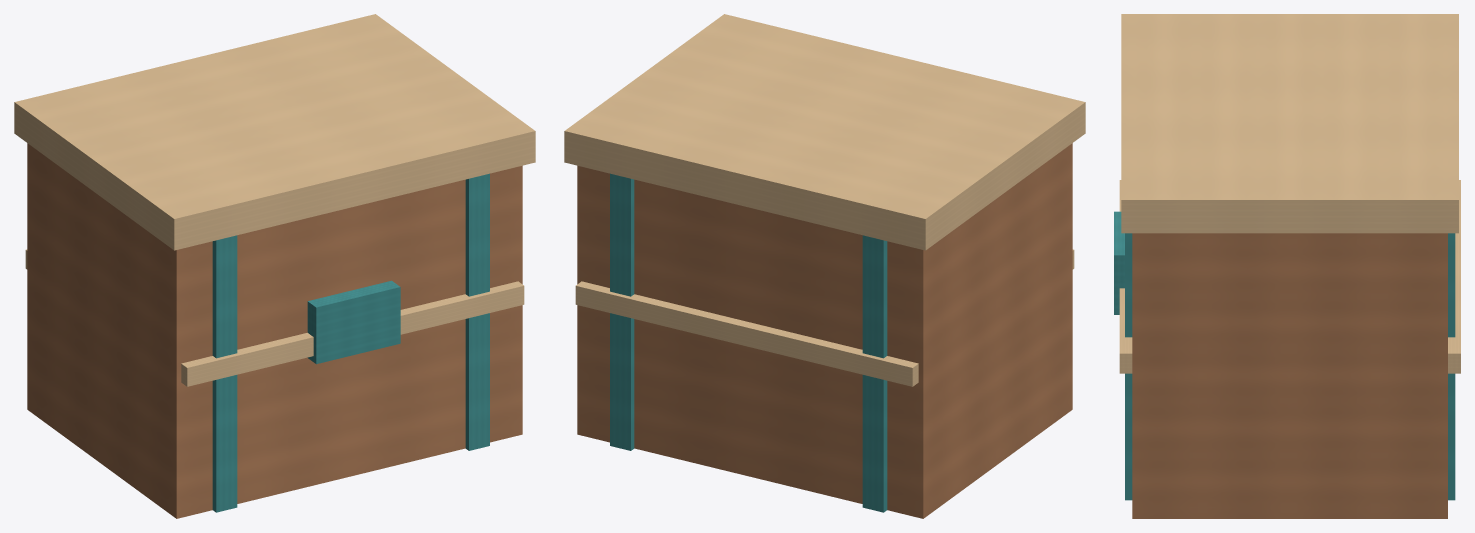
Rendered from atlas100-desertdeco-util02.glb.
The picture shows the model from 3 angles, left to right: view 1: azimuth 30°, elevation 25°; view 2: azimuth 150°, elevation 25°; view 3: azimuth 270°, elevation 25°; orthographic projection. The views are drawn at different scales.
Parts seen in each view (by area): view 1: atlas100-desertdeco-util02:part-000, atlas100-desertdeco-util02:part-005, atlas100-desertdeco-util02:part-001, atlas100-desertdeco-util02:part-004, atlas100-desertdeco-util02:part-002, atlas100-desertdeco-util02:part-006; view 2: atlas100-desertdeco-util02:part-000, atlas100-desertdeco-util02:part-005, atlas100-desertdeco-util02:part-003, atlas100-desertdeco-util02:part-001, atlas100-desertdeco-util02:part-002; view 3: atlas100-desertdeco-util02:part-000, atlas100-desertdeco-util02:part-005, atlas100-desertdeco-util02:part-002, atlas100-desertdeco-util02:part-003, atlas100-desertdeco-util02:part-006, atlas100-desertdeco-util02:part-004.
Part boxes in pixels (x1=…): atlas100-desertdeco-util02:part-000: x1=27, y1=143, x2=522, y2=518; atlas100-desertdeco-util02:part-005: x1=14, y1=14, x2=535, y2=250; atlas100-desertdeco-util02:part-001: x1=212, y1=235, x2=237, y2=512; atlas100-desertdeco-util02:part-004: x1=181, y1=281, x2=524, y2=386; atlas100-desertdeco-util02:part-002: x1=465, y1=173, x2=489, y2=450; atlas100-desertdeco-util02:part-006: x1=307, y1=280, x2=400, y2=364; atlas100-desertdeco-util02:part-000: x1=577, y1=143, x2=1072, y2=518; atlas100-desertdeco-util02:part-005: x1=564, y1=14, x2=1085, y2=250; atlas100-desertdeco-util02:part-003: x1=575, y1=281, x2=918, y2=386; atlas100-desertdeco-util02:part-001: x1=862, y1=235, x2=887, y2=512; atlas100-desertdeco-util02:part-002: x1=610, y1=173, x2=634, y2=450; atlas100-desertdeco-util02:part-000: x1=1132, y1=233, x2=1447, y2=518; atlas100-desertdeco-util02:part-005: x1=1121, y1=14, x2=1458, y2=233; atlas100-desertdeco-util02:part-002: x1=1125, y1=233, x2=1455, y2=500; atlas100-desertdeco-util02:part-003: x1=1448, y1=180, x2=1460, y2=373; atlas100-desertdeco-util02:part-006: x1=1114, y1=211, x2=1124, y2=314; atlas100-desertdeco-util02:part-004: x1=1119, y1=180, x2=1132, y2=373.
Bounding box in the file's own units: 1.26 × 1.01 × 0.9885.
3 materials, 3 textured.
